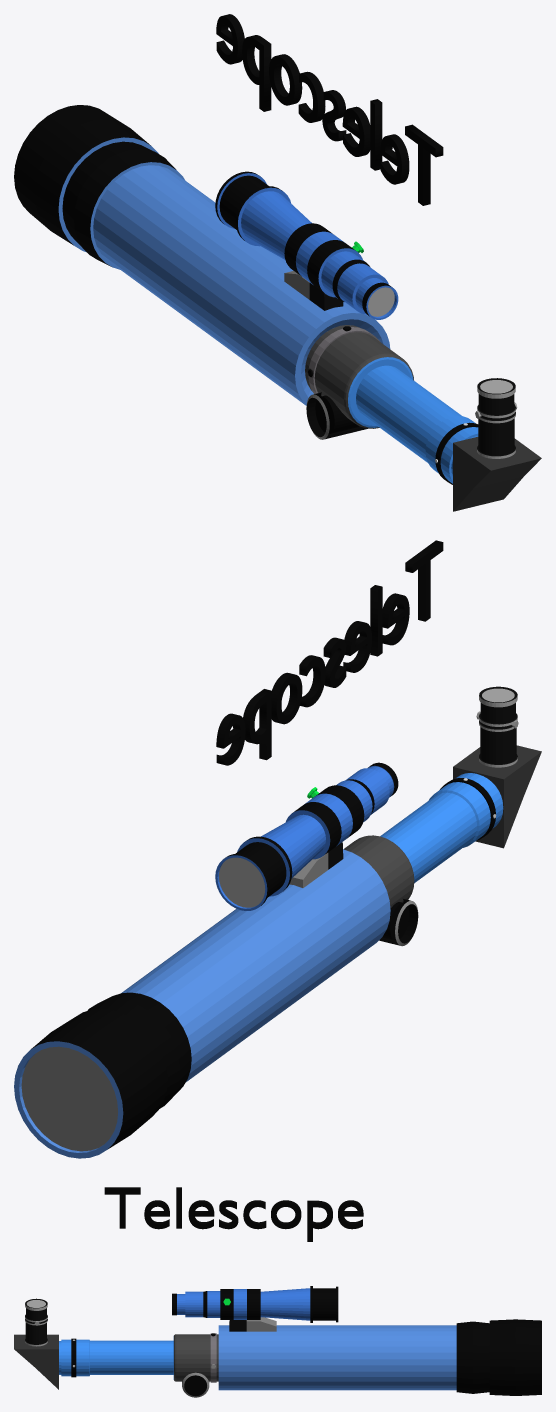
File: Telescope.gltf
3 renders of one model, top to bottom at view 1: azimuth 30°, elevation 25°; view 2: azimuth 150°, elevation 25°; view 3: azimuth 270°, elevation 25°, orthographic. The views are drawn at different scales.
Visible parts, largest first — view 1: Cylinder, Cylinder.002, Cylinder.001, Text, Cube.002, Cylinder.004, Cylinder.003, Circle.001; view 2: Cylinder, Cylinder.001, Text, Cylinder.002, Cube.002, Cylinder.004, Cylinder.003; view 3: Cylinder, Cylinder.002, Cylinder.001, Text, Cube.002, Cylinder.004, Cylinder.003, Cube, Circle.001.
Boxes of the visible parts, <box> form: Cylinder: <box>14,105,390,405</box>; Cylinder.002: <box>305,325,478,483</box>; Cylinder.001: <box>215,171,398,319</box>; Text: <box>216,14,443,205</box>; Cube.002: <box>453,436,541,511</box>; Cylinder.004: <box>477,378,515,458</box>; Cylinder.003: <box>306,392,367,439</box>; Circle.001: <box>308,327,379,393</box>; Cylinder: <box>14,849,390,1158</box>; Cylinder.001: <box>215,762,398,910</box>; Text: <box>216,540,443,765</box>; Cylinder.002: <box>343,773,503,908</box>; Cube.002: <box>453,745,541,848</box>; Cylinder.004: <box>479,686,517,767</box>; Cylinder.003: <box>379,899,418,946</box>; Cylinder: <box>218,1319,541,1395</box>; Cylinder.002: <box>59,1334,218,1381</box>; Cylinder.001: <box>172,1286,338,1322</box>; Text: <box>104,1187,363,1241</box>; Cube.002: <box>14,1334,58,1389</box>; Cylinder.004: <box>25,1298,47,1346</box>; Cylinder.003: <box>182,1372,209,1397</box>; Cube: <box>246,1317,276,1331</box>; Circle.001: <box>210,1333,216,1382</box>.
Bounding box in the file's own units: 0.4862 × 1.43 × 3.34.
